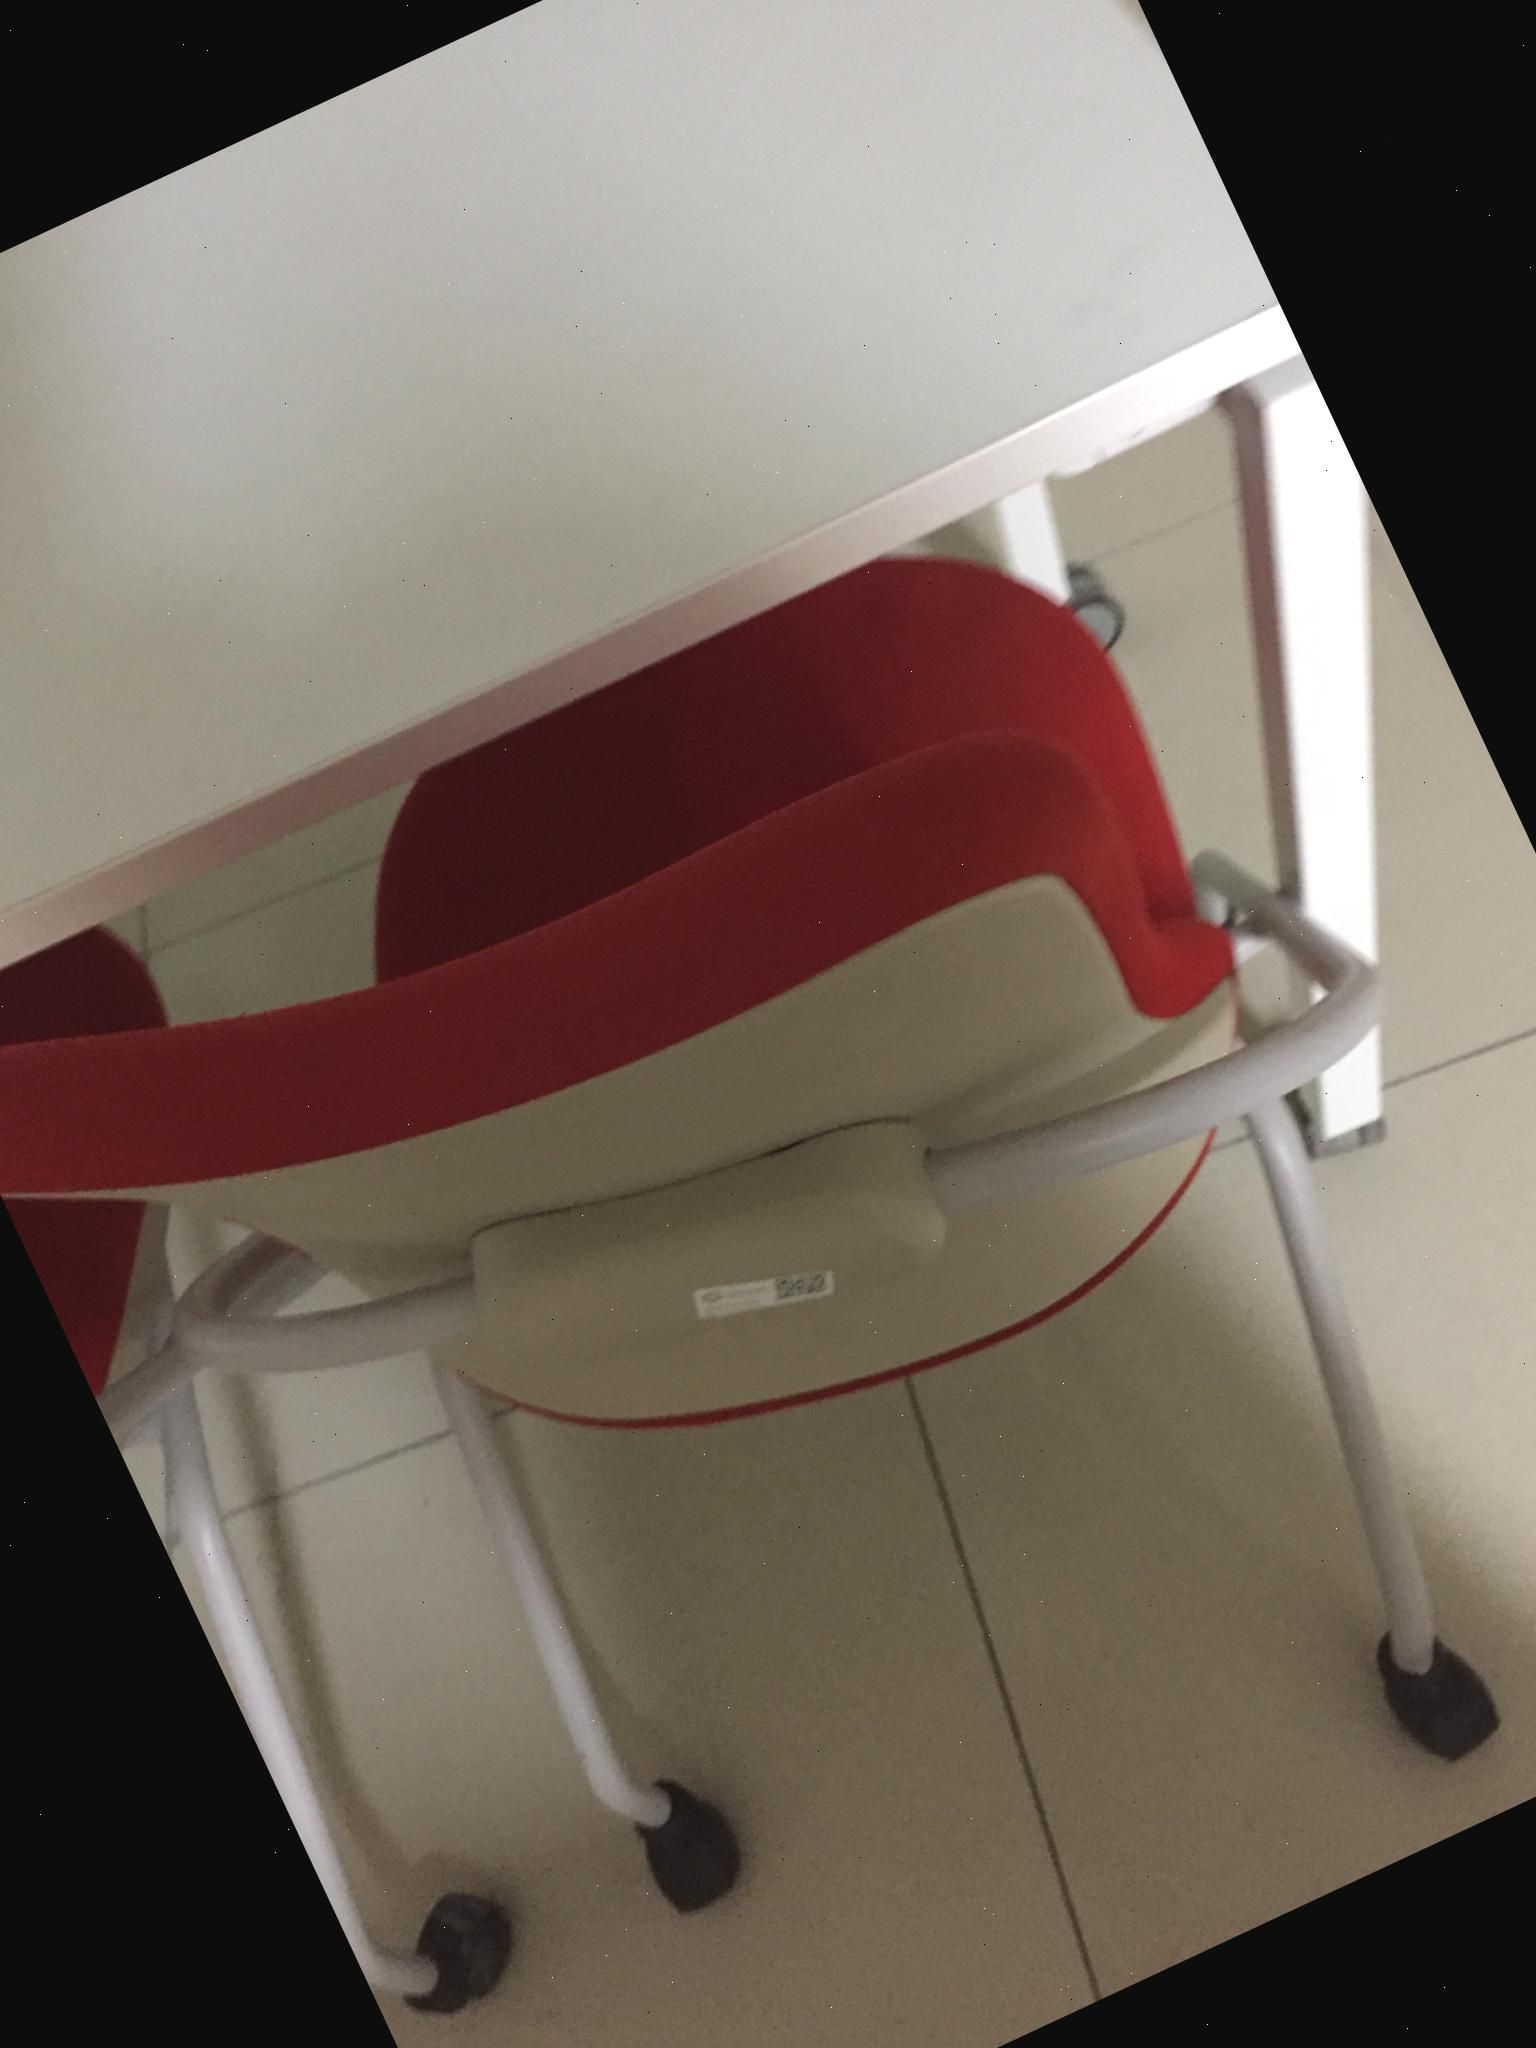chair: (0, 435, 1536, 2048)
